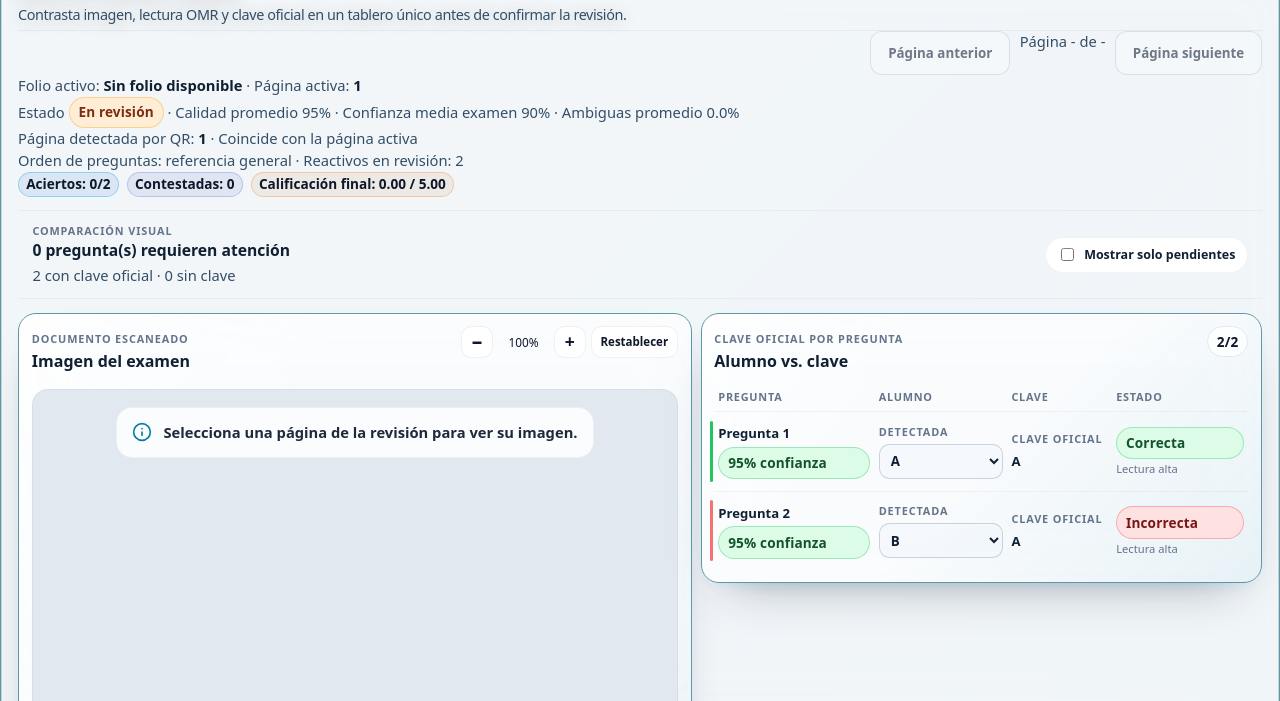
escaneo refactor comportamiento › alinea alumno y clave, permite enfocar pendientes y controlar el zoom de la imagen
This screenshot has width=1280, height=701.
(page scrolled)
Expected: the heading "Imagen del examen" is shown, [32, 350, 190, 373]
Expected: the heading "Alumno vs. clave" is shown, [714, 350, 848, 372]
Click the button named "Acercar imagen".
click(570, 342)  # box [554, 326, 586, 358]
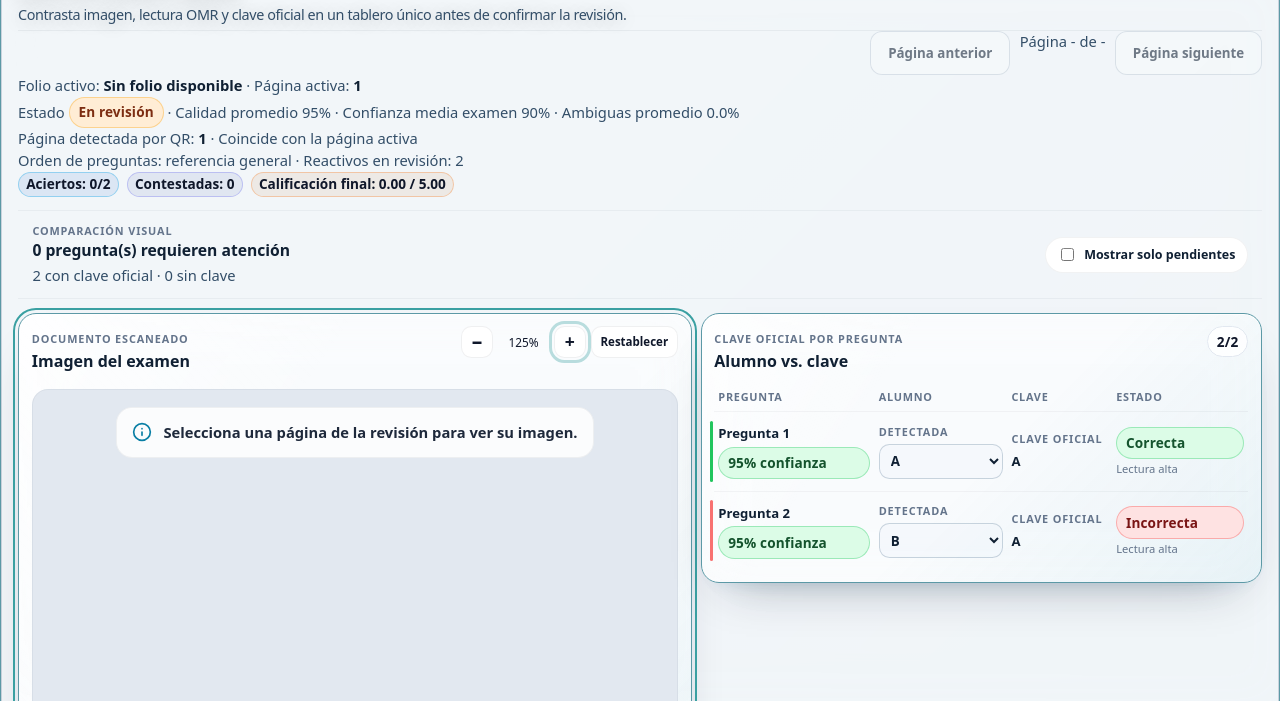
Now the text "125%" is shown, box [508, 334, 539, 350]
Click the checkbox labelled "Mostrar solo pendientes".
click(1067, 255)  # box [1061, 248, 1074, 261]
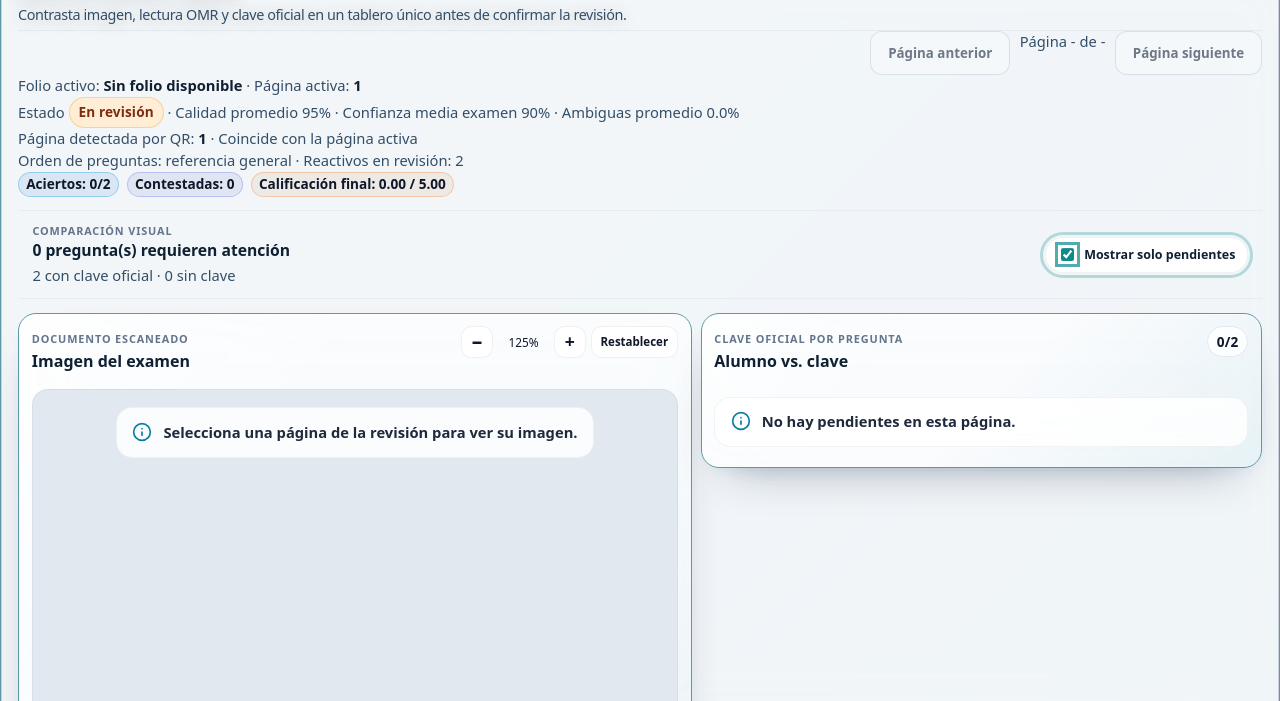
Now the text "No hay pendientes en esta página." is shown, box [762, 411, 1016, 431]
